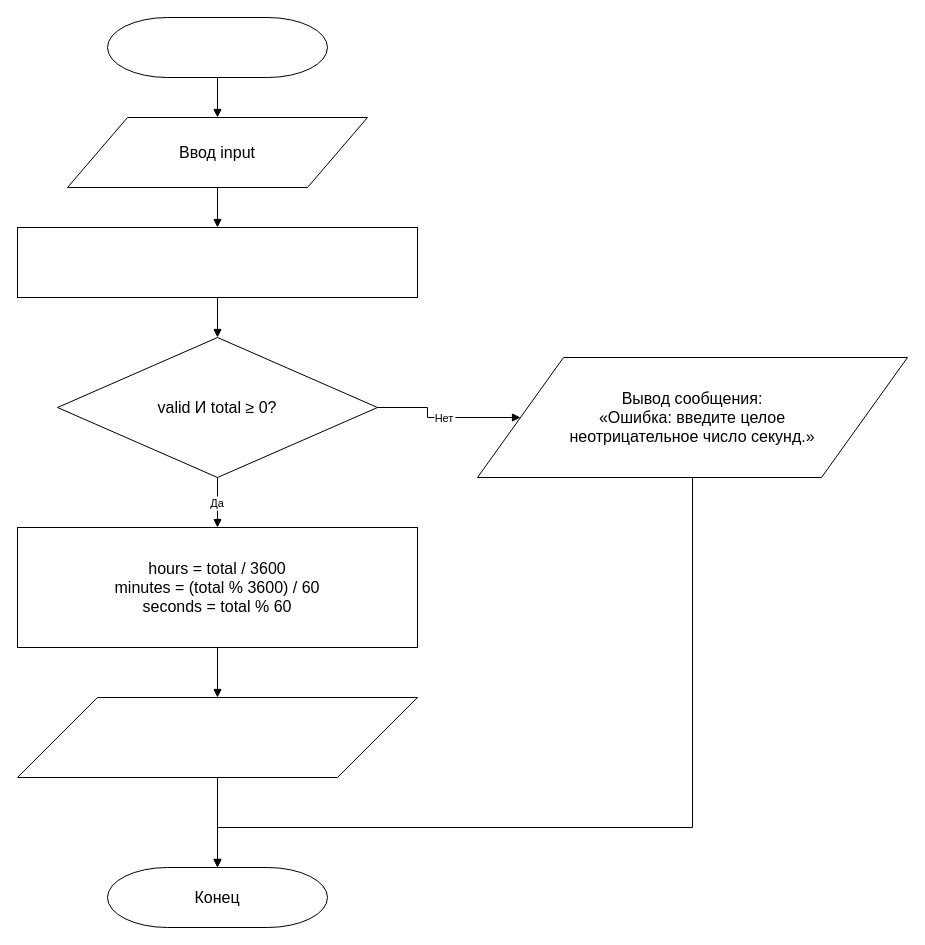
The diagram is 925 pixels wide and 945 high, and some of its shapes have lost their labels. The shapes that lost their labels are listed below. From the top down, each one's centre as x and y in pixels, then its label:
(217,47): Начало
(217,262): valid = TryParse(input, out total)
(217,737): Вывод hours, minutes, seconds
